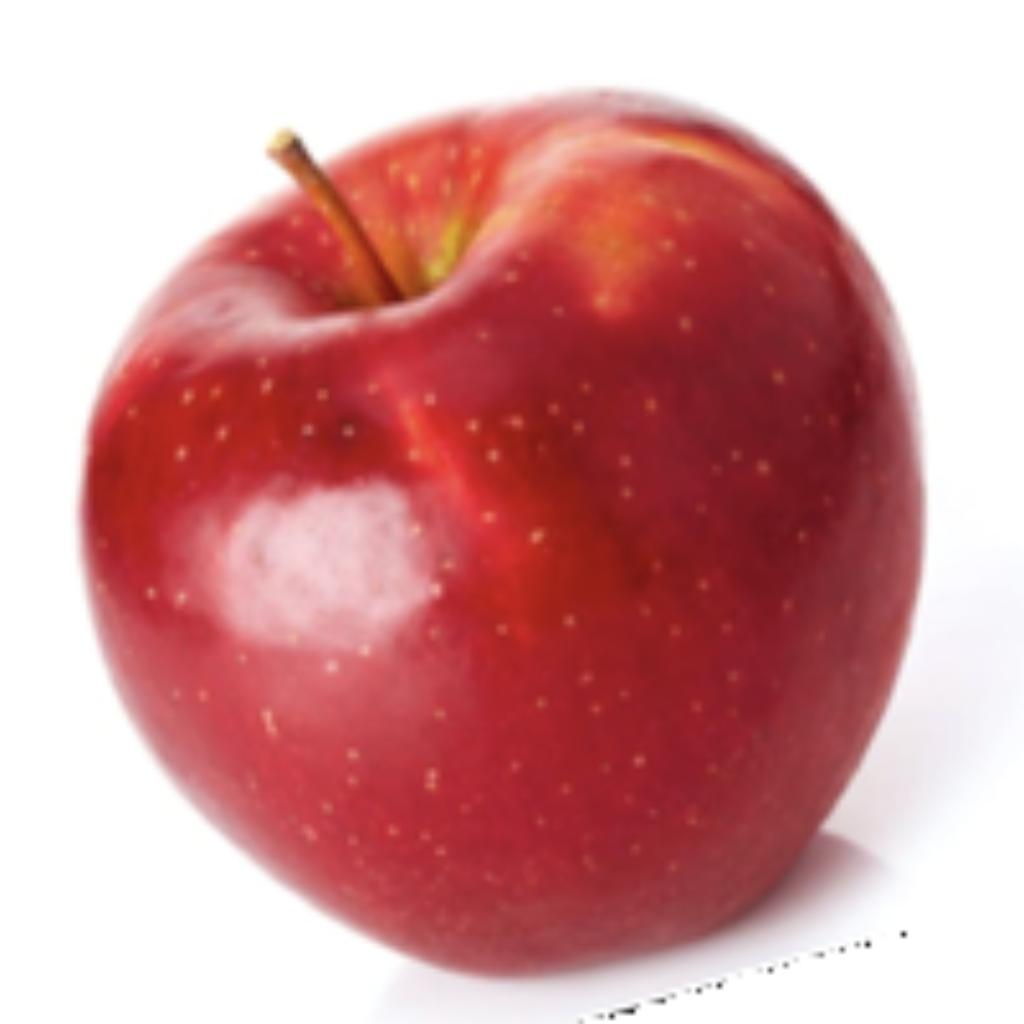apple: (67, 77, 973, 1019)
